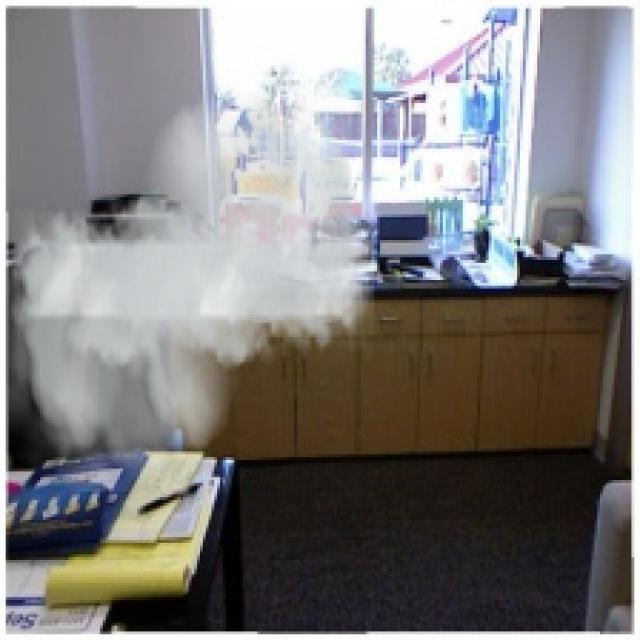Smoke: (8, 69, 374, 492)
